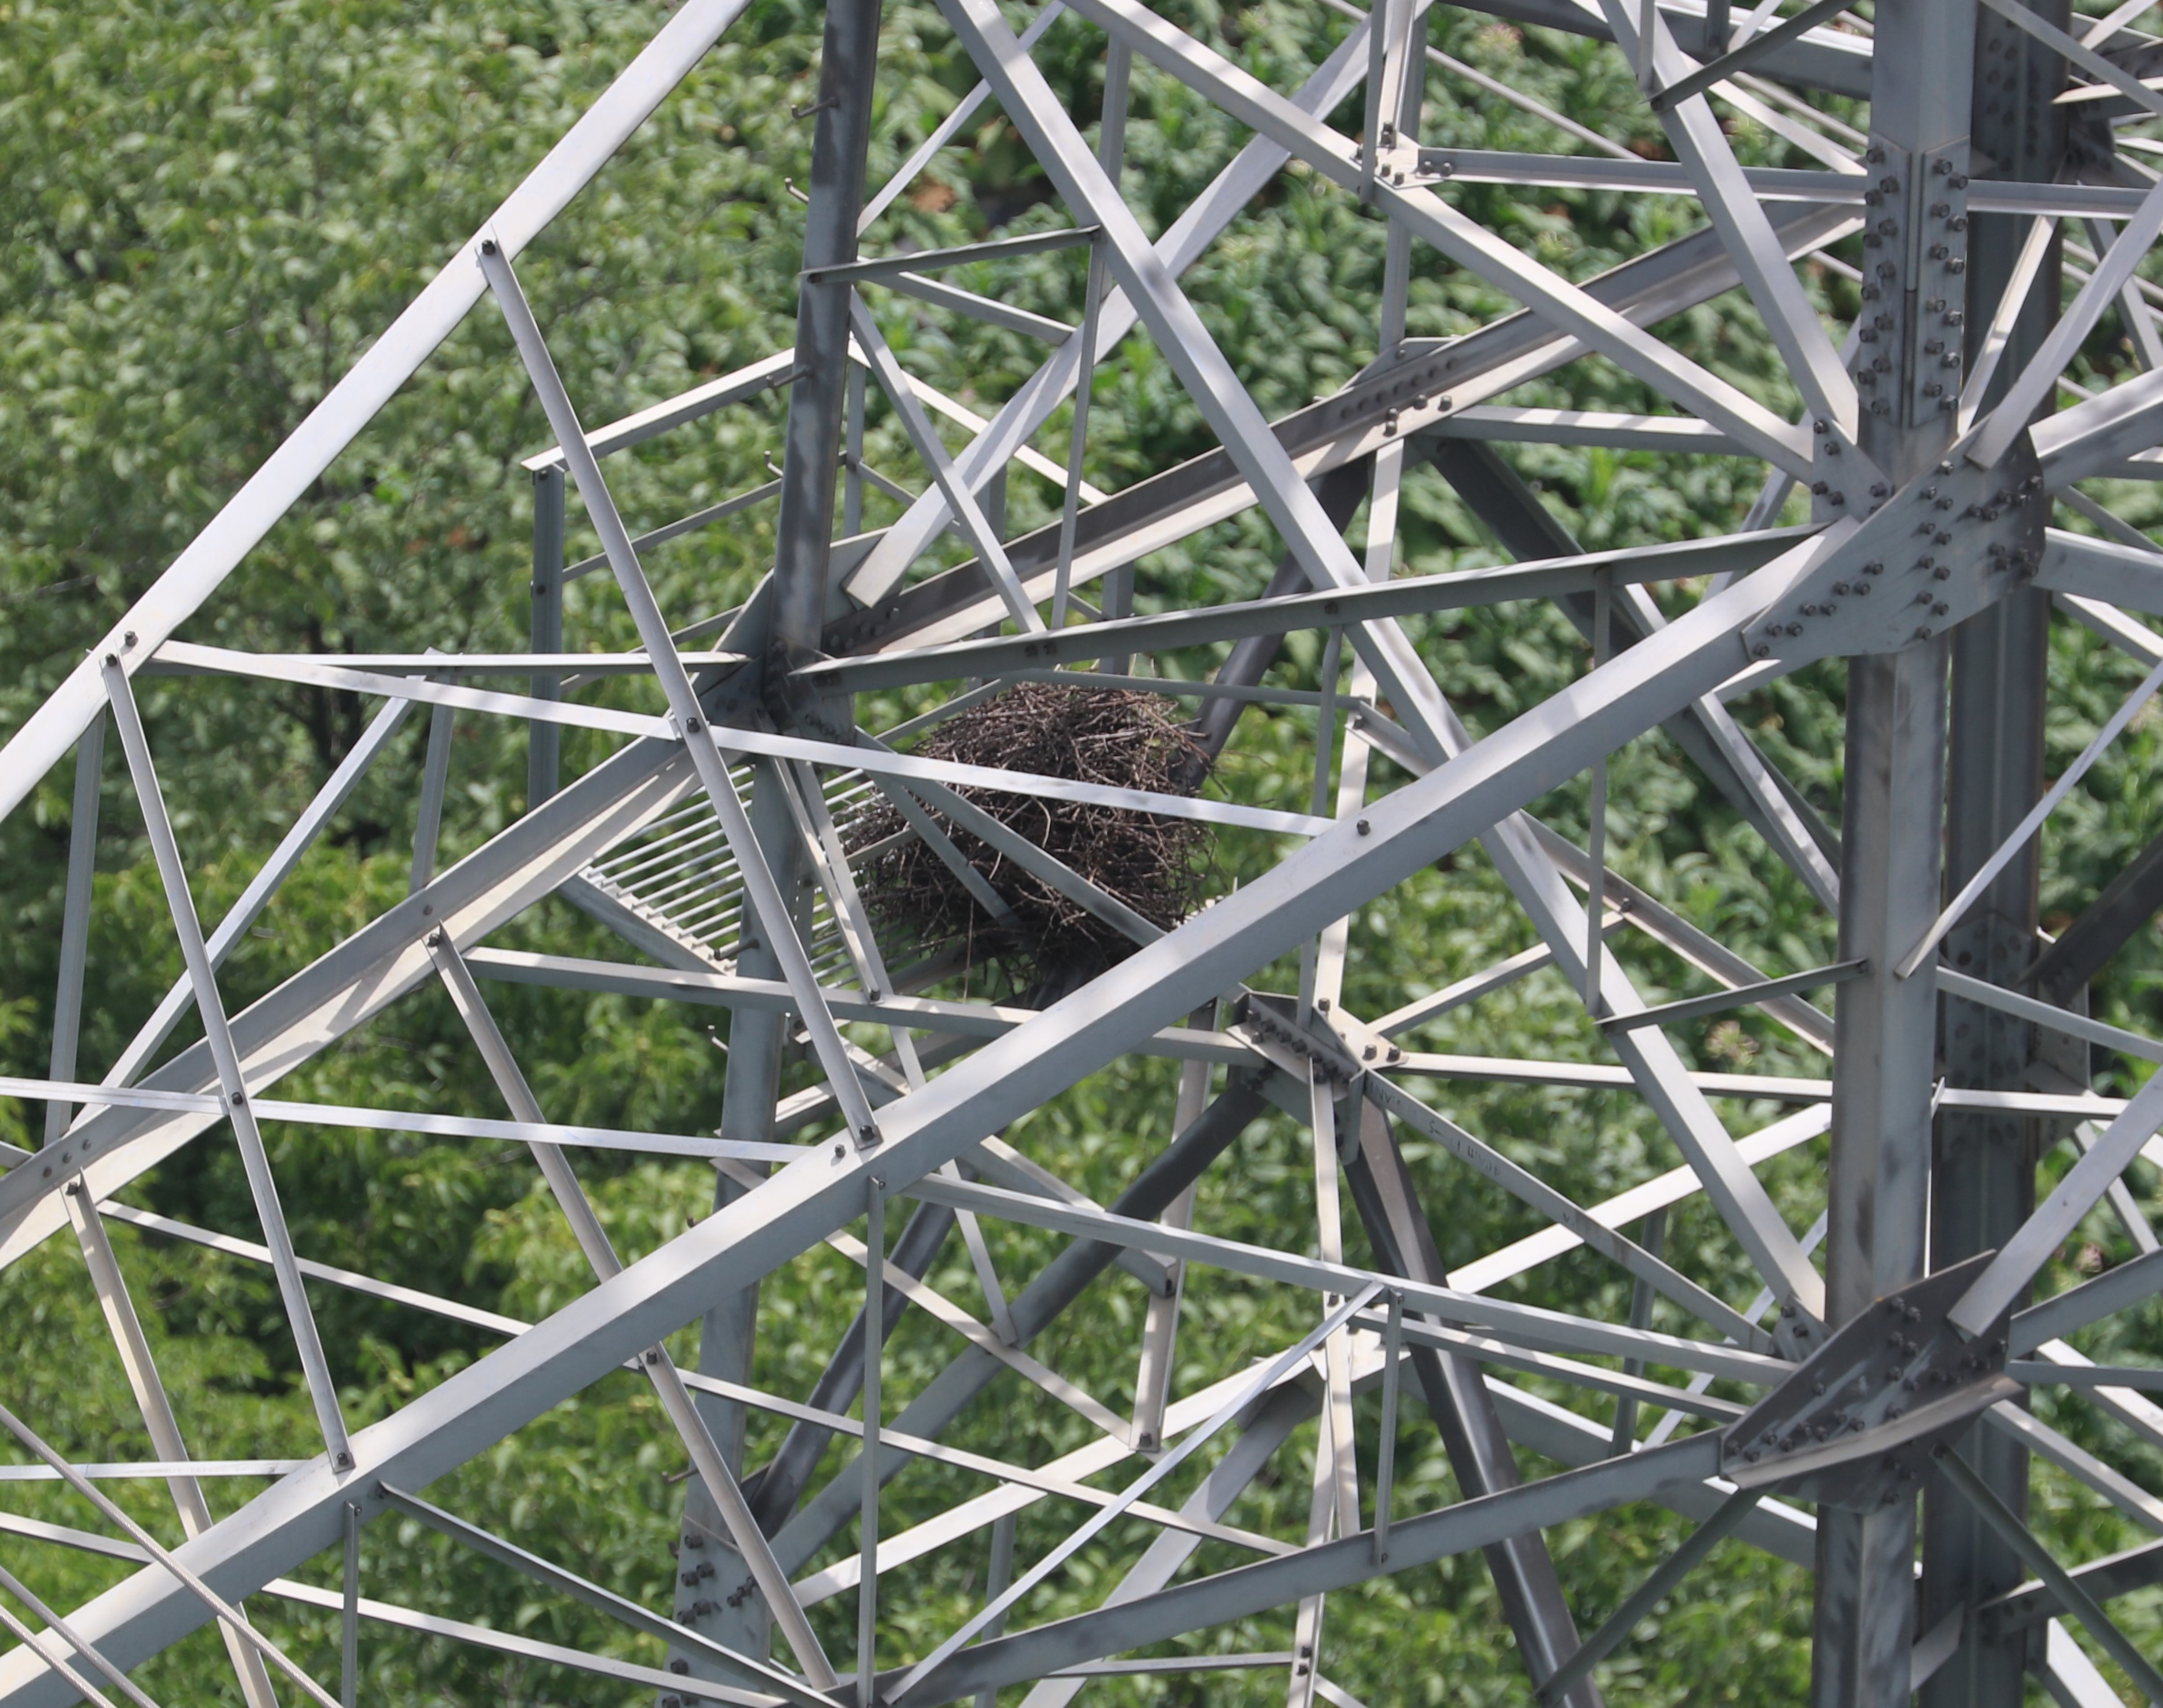niaowo: (850, 669, 1245, 985)
